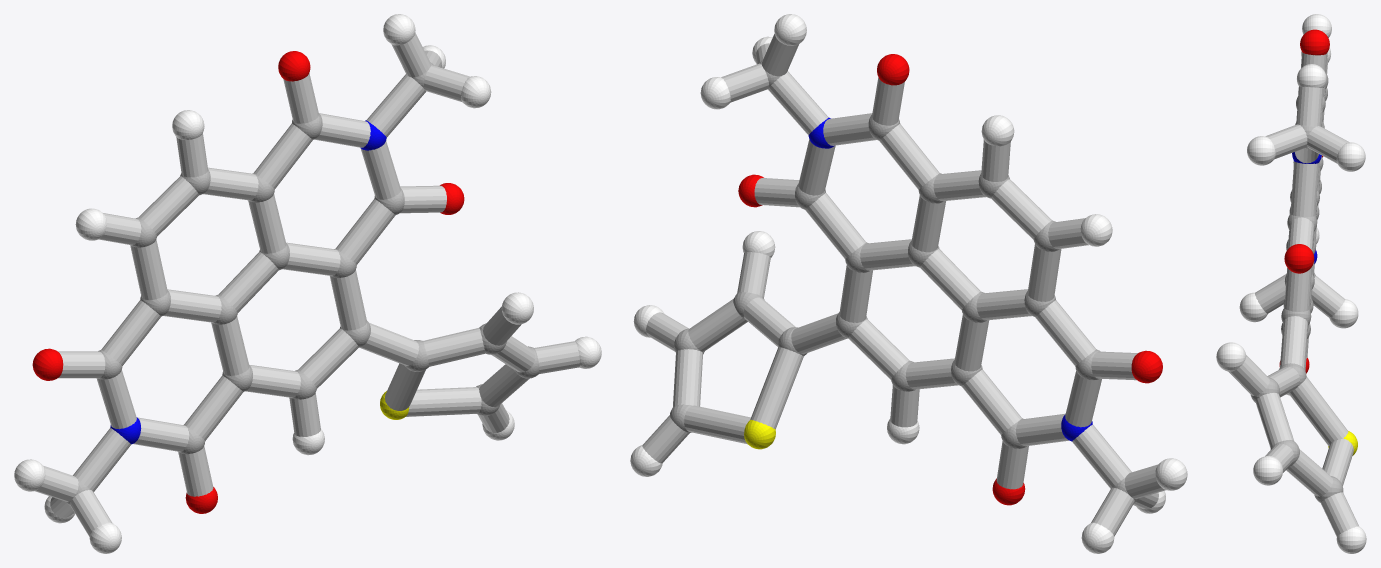
File: Dimethyl_Naphthalene_Dicarboximide_Phi_10_Theta_40_Thiophene.glb
3 renders of one model, left to right at view 1: azimuth 30°, elevation 25°; view 2: azimuth 150°, elevation 25°; view 3: azimuth 270°, elevation 25°, orthographic. The views are drawn at different scales.
Visible parts, largest first — view 1: grp14119, grp7241, grp1, grp12309, grp11585; view 2: grp14119, grp7241, grp1, grp12309, grp13757, grp11585; view 3: grp14119, grp7241, grp1, grp12309.
Part boxes in pixels (bbox=[...]): grp14119: bbox=[35, 33, 579, 536]; grp7241: bbox=[14, 14, 601, 553]; grp1: bbox=[65, 62, 539, 505]; grp12309: bbox=[32, 51, 464, 513]; grp11585: bbox=[110, 120, 386, 444]; grp14119: bbox=[642, 34, 1165, 536]; grp7241: bbox=[630, 14, 1187, 553]; grp1: bbox=[670, 60, 1139, 501]; grp12309: bbox=[738, 54, 1162, 505]; grp13757: bbox=[744, 419, 775, 449]; grp11585: bbox=[808, 117, 1092, 441]; grp14119: bbox=[1228, 52, 1358, 536]; grp7241: bbox=[1216, 14, 1366, 553]; grp1: bbox=[1250, 73, 1343, 502]; grp12309: bbox=[1279, 29, 1329, 373].
Size of the model in its own units: 12.06 by 9.59 by 3.02.
